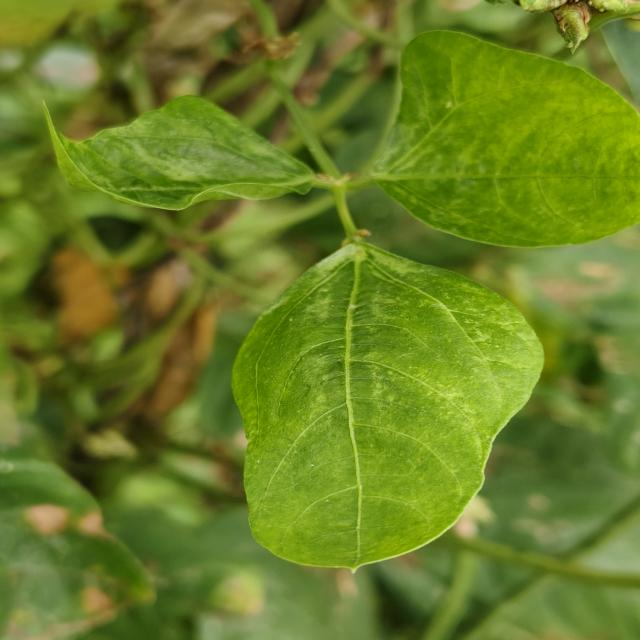leaf-low: (232, 239, 544, 571), (327, 36, 640, 281), (46, 96, 349, 210)
sitaw-aphid-low: (0, 458, 156, 640)
